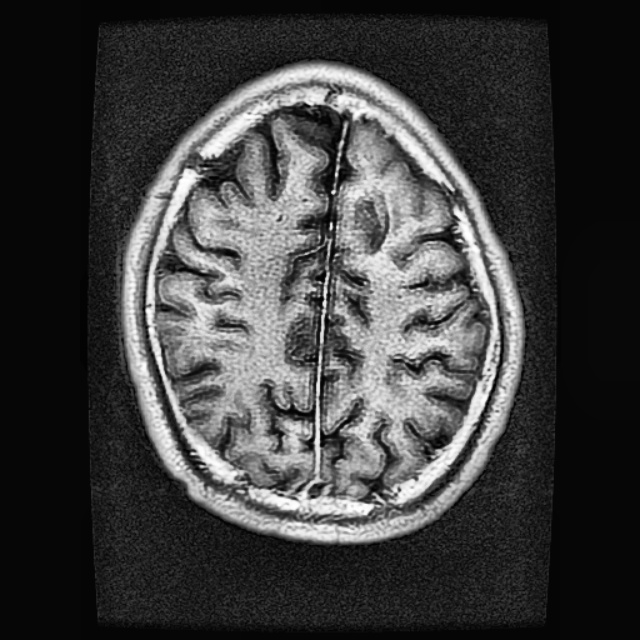Pituitary: (350, 183, 390, 257)
